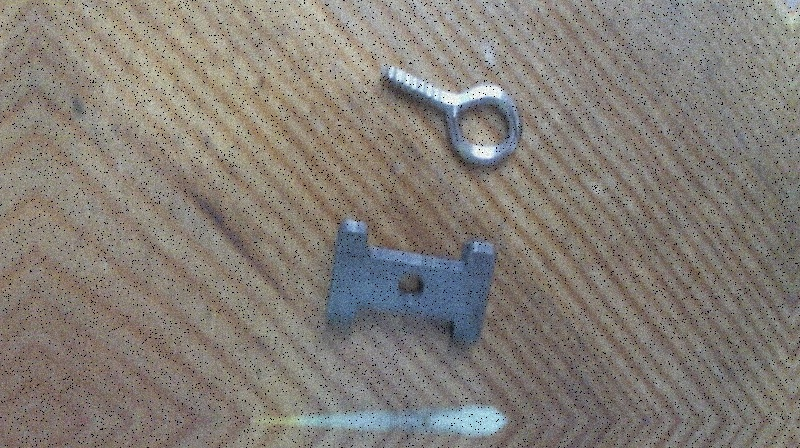O001: (368, 58, 530, 169)
O002: (319, 217, 500, 350)
